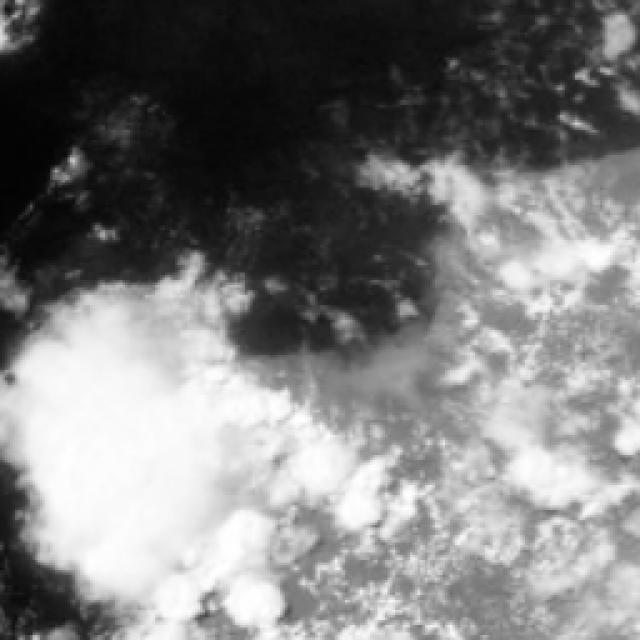CB: (45, 352, 200, 549)
